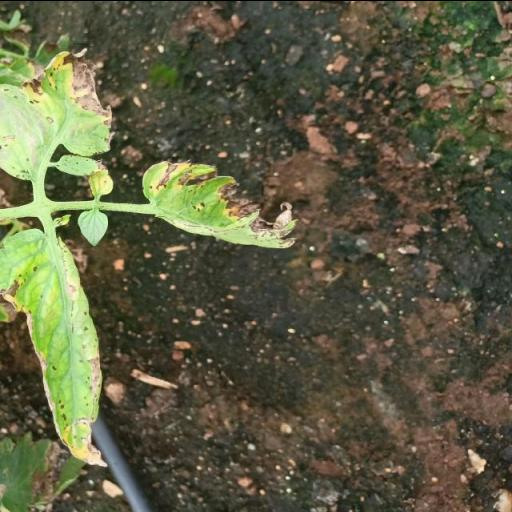disease_tomato: (0, 231, 105, 472), (0, 38, 119, 186), (136, 152, 304, 254)
